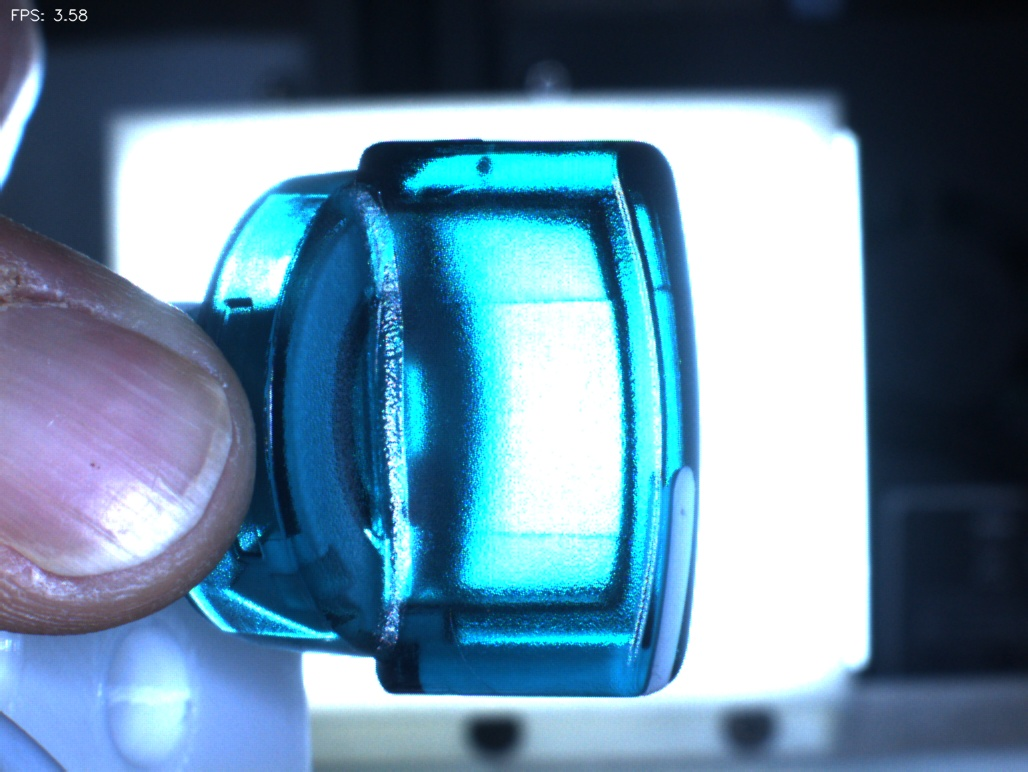Bulle: (449, 124, 527, 214)
